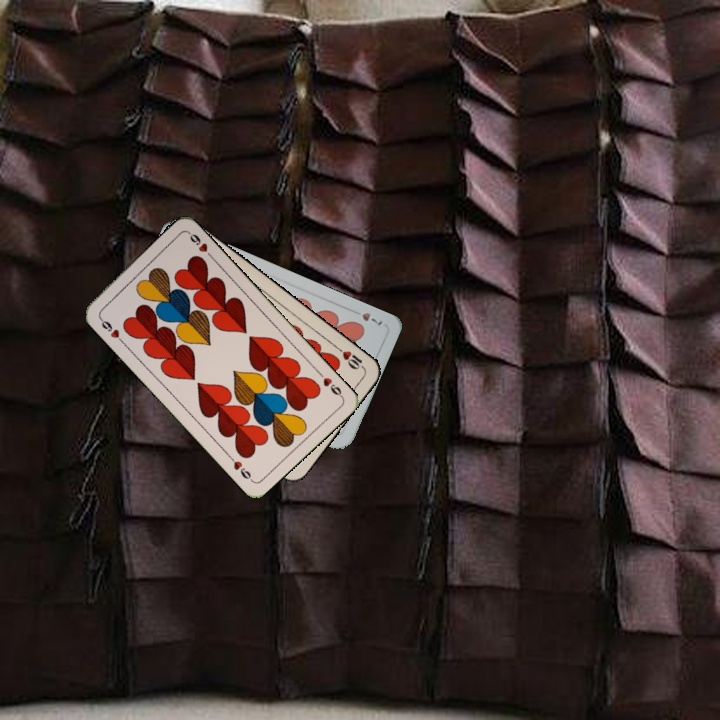H10: (332, 343, 367, 372)
H7: (347, 305, 385, 328)
H9: (314, 367, 345, 400), (95, 313, 126, 346)
